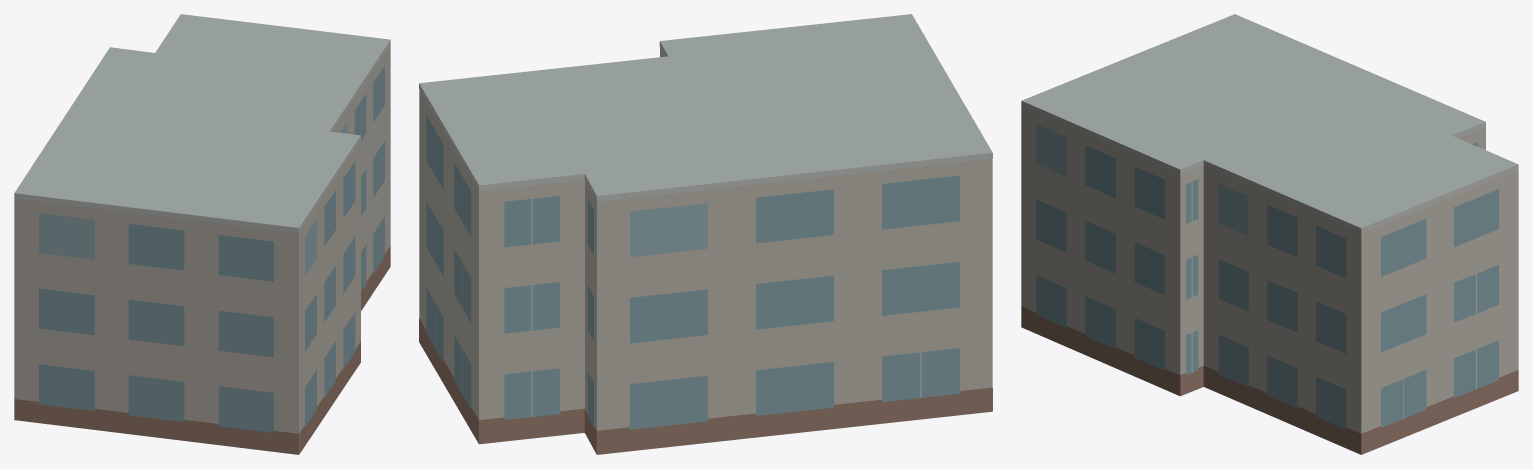
File: survey-upis-32534060.glb
The picture shows the model from 3 angles, left to right: view 1: azimuth 30°, elevation 25°; view 2: azimuth 150°, elevation 25°; view 3: azimuth 270°, elevation 25°; orthographic projection. The views are drawn at different scales.
Parts seen in each view (by area): view 1: survey-upis-32534060.tmp; view 2: survey-upis-32534060.tmp; view 3: survey-upis-32534060.tmp.
Boxes of the visible parts, left/top/right/bottom form: survey-upis-32534060.tmp: left=14, top=14, right=390, bottom=454; survey-upis-32534060.tmp: left=419, top=14, right=992, bottom=454; survey-upis-32534060.tmp: left=1021, top=14, right=1518, bottom=454.
Size of the model in its own units: 21.91 by 10.8 by 21.48.
